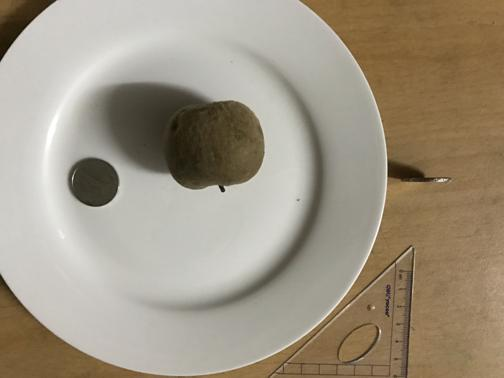coin: (70, 159, 120, 206)
qiwi: (166, 100, 263, 190)
